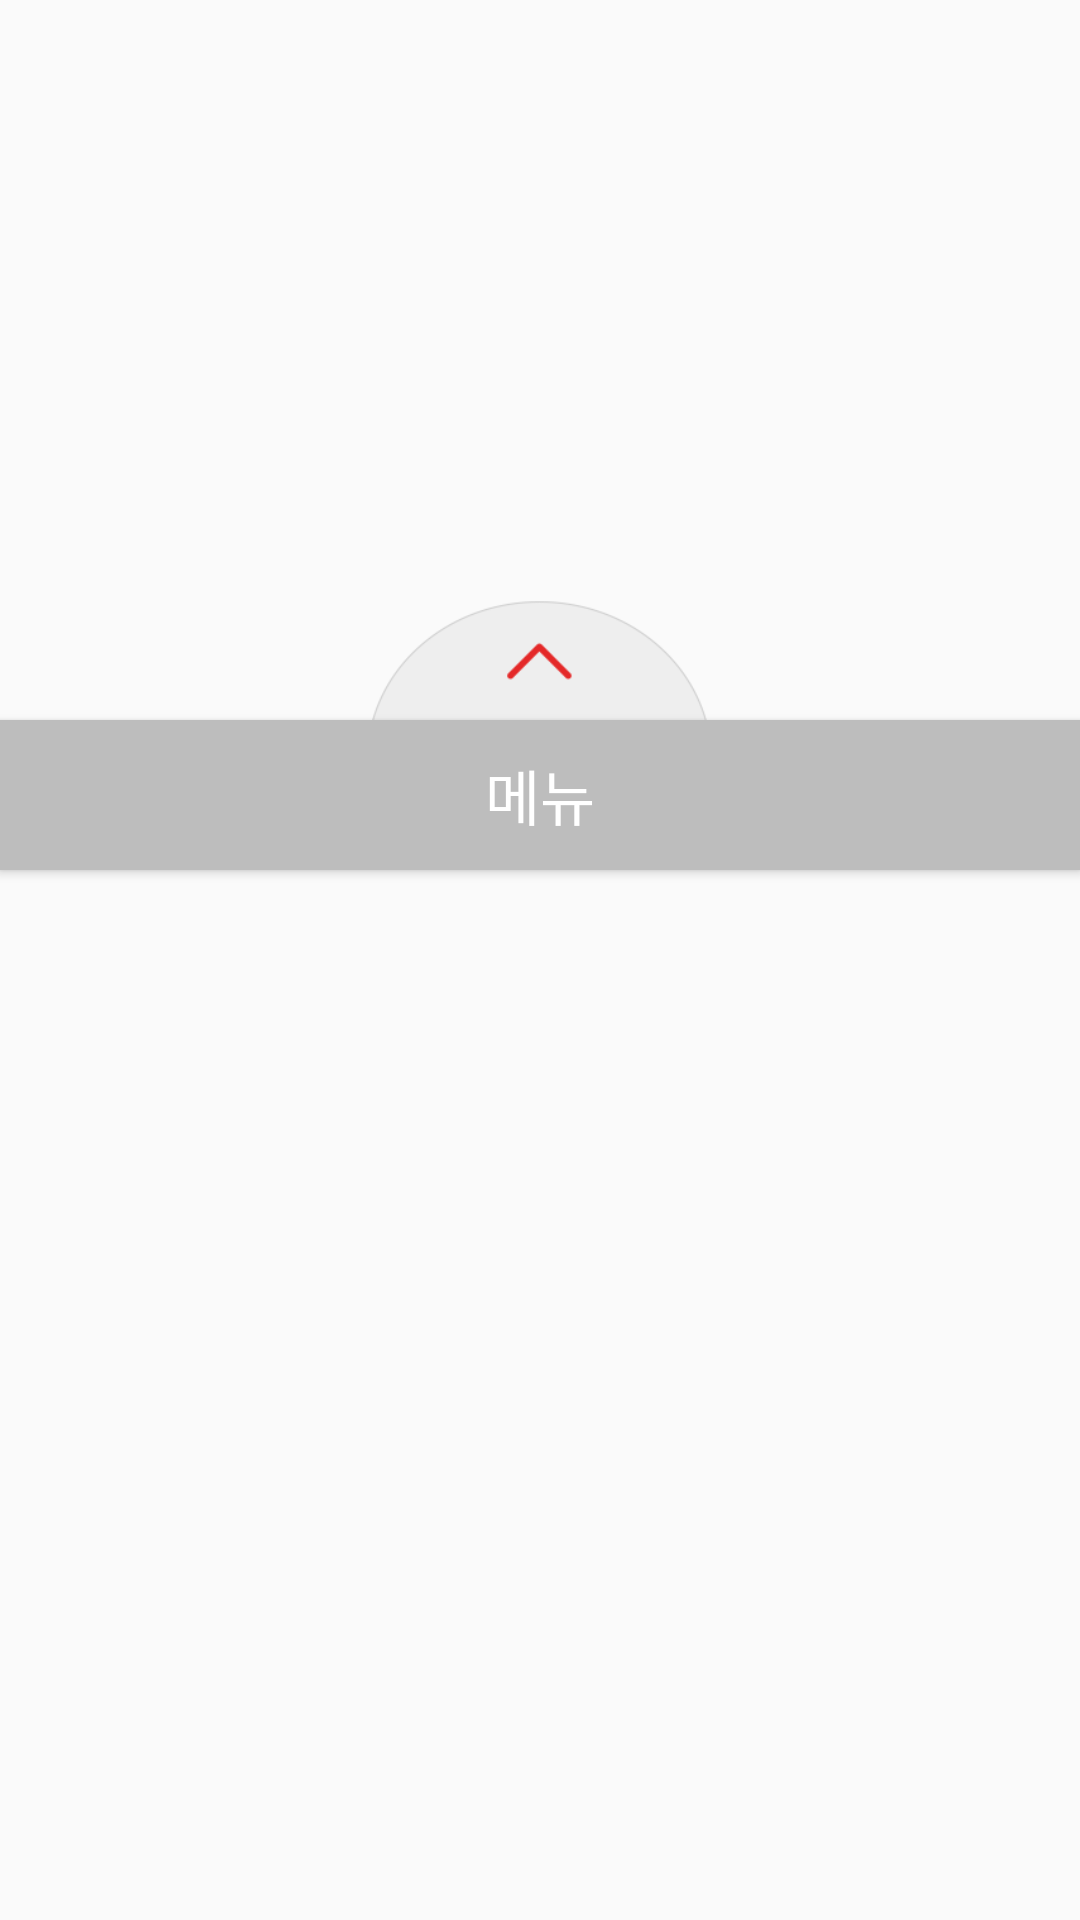

Where to tap for icons on this 1080px x 1920px app screen, as (x=x, y=y):
menubar up: (x=539, y=660)
